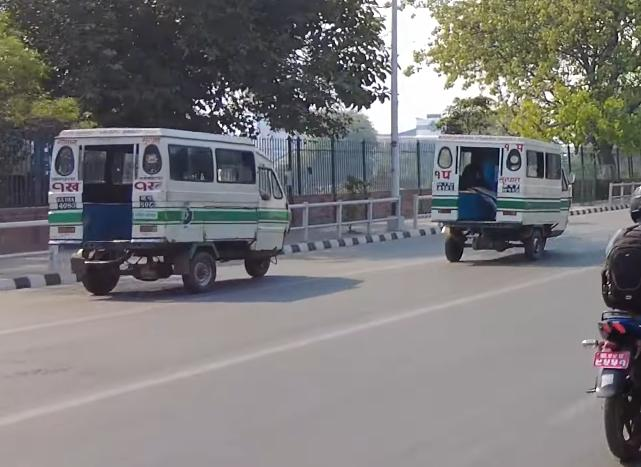bike: (579, 279, 641, 455)
tempo: (39, 114, 295, 297), (421, 127, 575, 264)
